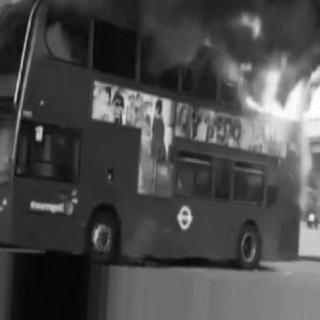Fire: (223, 45, 313, 142)
Smoke: (130, 2, 214, 64), (220, 0, 309, 54)
